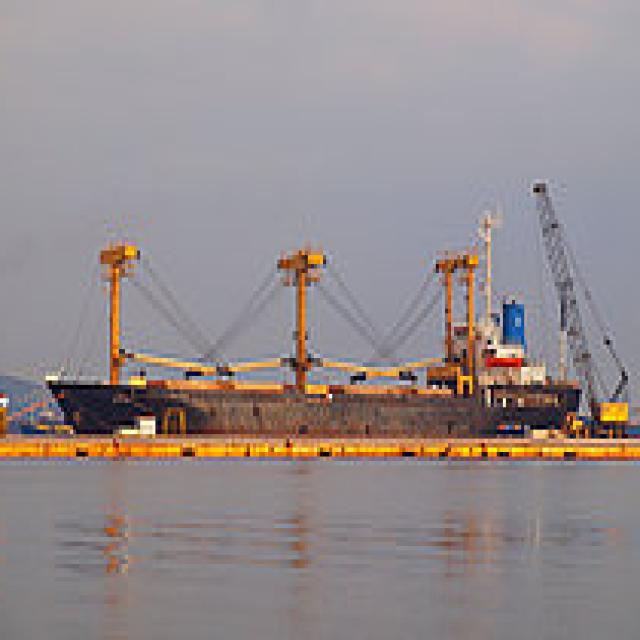Cargo: (46, 237, 585, 434)
